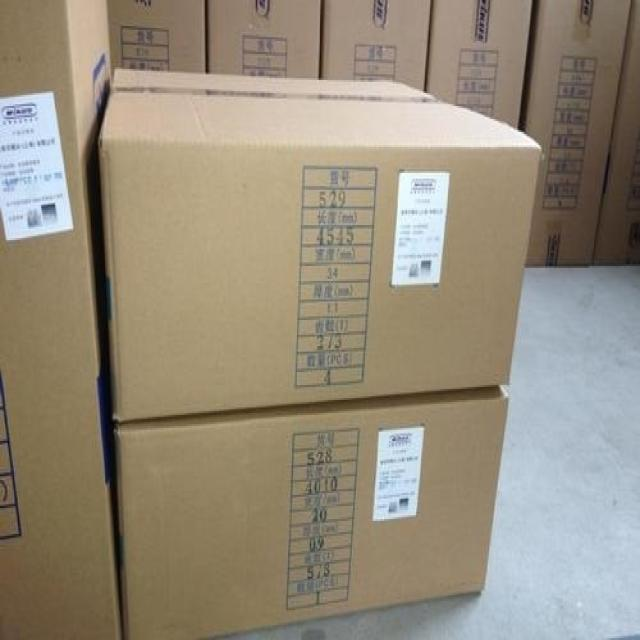box: (97, 91, 543, 422), (114, 387, 509, 640), (521, 0, 631, 268), (426, 0, 532, 127), (594, 0, 640, 264), (111, 67, 438, 100), (321, 0, 433, 91), (206, 0, 323, 80), (108, 0, 206, 78)
